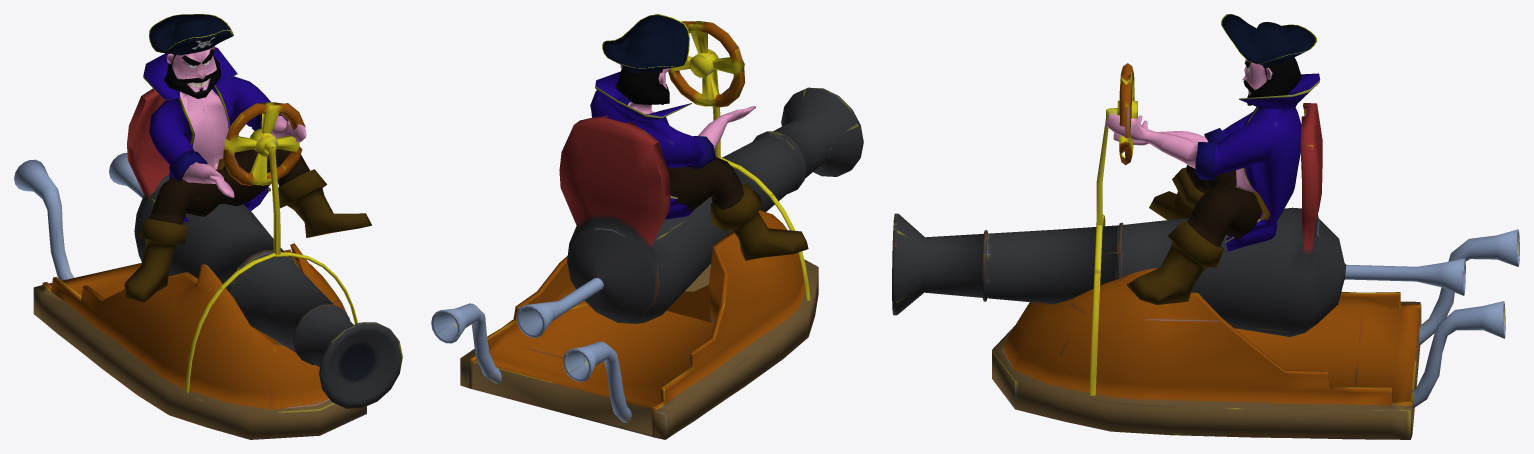
File: pirataGiroDer_000182.obj
3 renders of one model, left to right at view 1: azimuth 30°, elevation 25°; view 2: azimuth 150°, elevation 25°; view 3: azimuth 270°, elevation 25°, orthographic. The views are drawn at different scales.
Visible parts, largest first — view 1: carro_pirata, Pirata_PirataH_Pirata_PirataH.001; view 2: carro_pirata, Pirata_PirataH_Pirata_PirataH.001; view 3: carro_pirata, Pirata_PirataH_Pirata_PirataH.001.
Part boxes in pixels (bbox=[...]): carro_pirata: bbox=[14, 88, 402, 439]; Pirata_PirataH_Pirata_PirataH.001: bbox=[124, 14, 371, 302]; carro_pirata: bbox=[431, 21, 863, 439]; Pirata_PirataH_Pirata_PirataH.001: bbox=[590, 14, 808, 260]; carro_pirata: bbox=[892, 63, 1519, 439]; Pirata_PirataH_Pirata_PirataH.001: bbox=[1105, 14, 1320, 304].
Bounding box in the file's own units: 5.68 × 7.56 × 12.1.
2 materials, 2 textured.
